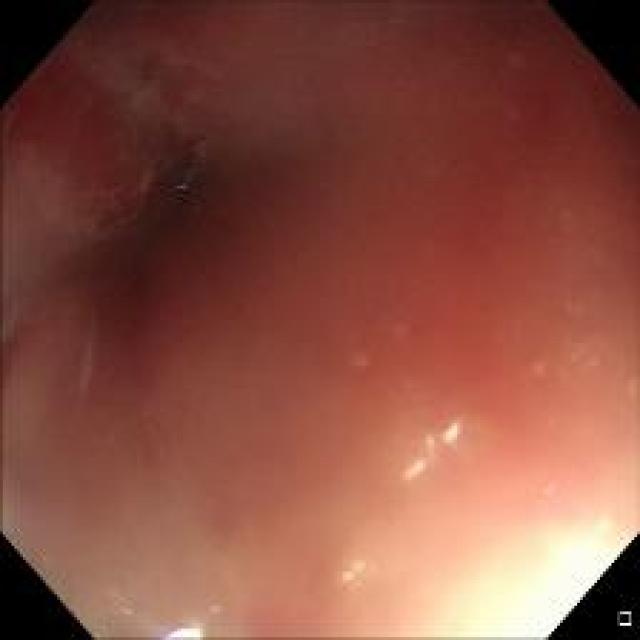saturation: (454, 530, 615, 629)
specularity: (154, 624, 210, 638), (441, 421, 462, 448), (339, 568, 354, 580)
